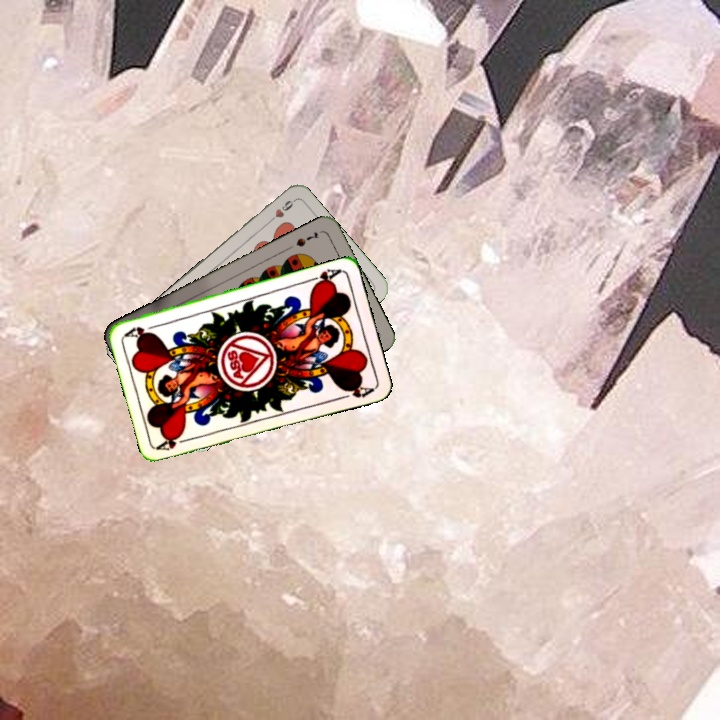H9: (263, 196, 297, 226)
HA: (303, 265, 343, 290), (154, 432, 194, 453)
S7: (292, 228, 321, 249)
